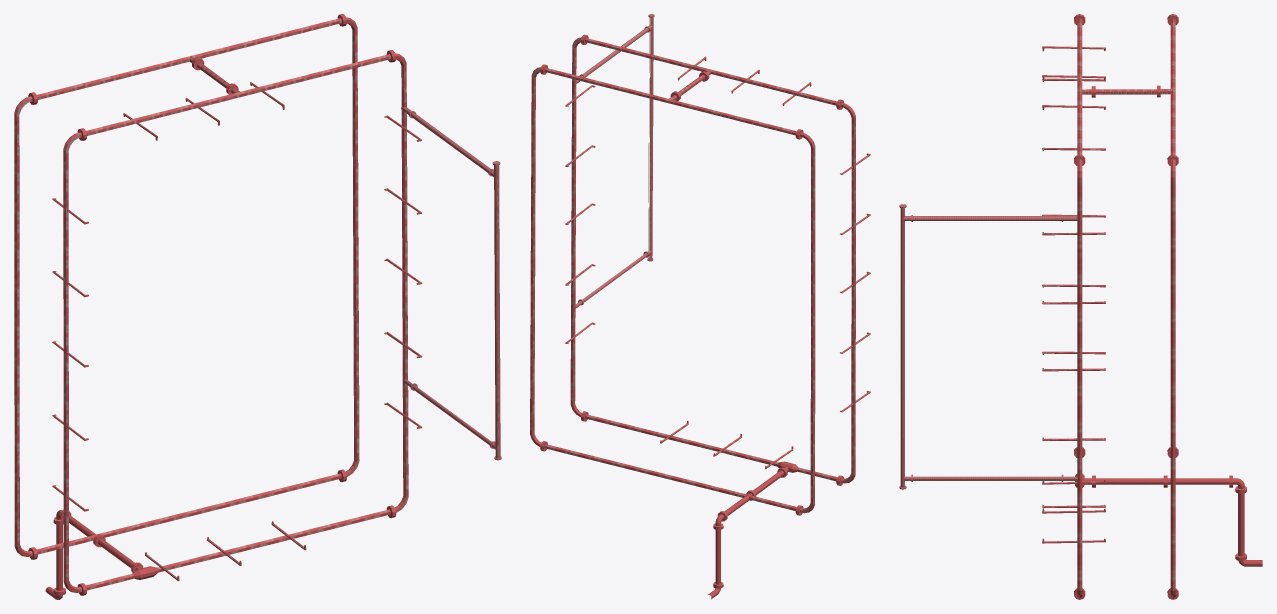
The model's file is qt-xfss-026-geode.glb.
3 views of the same model, side by side, from view 1: azimuth 30°, elevation 25°; view 2: azimuth 150°, elevation 25°; view 3: azimuth 270°, elevation 25° (orthographic). The views are drawn at different scales.
Visible parts, largest first — view 1: Node; view 2: Node; view 3: Node.
Boxes of the visible parts, x1,y1,x2,y2 form: Node: (14,14,501,599); Node: (530,14,870,599); Node: (899,14,1262,599).
Size of the model in its own units: 8.55 by 13.08 by 8.2.
Materials: 3 (3 with a texture image).
